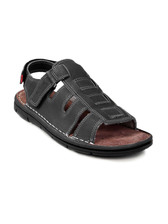shoes: (13, 51, 156, 158)
